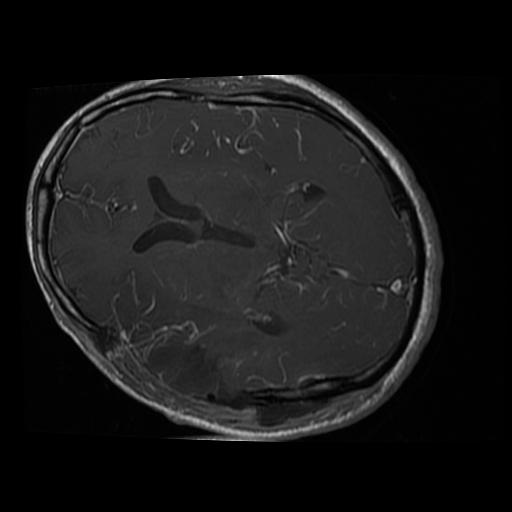glioma: (142, 329, 222, 400)
